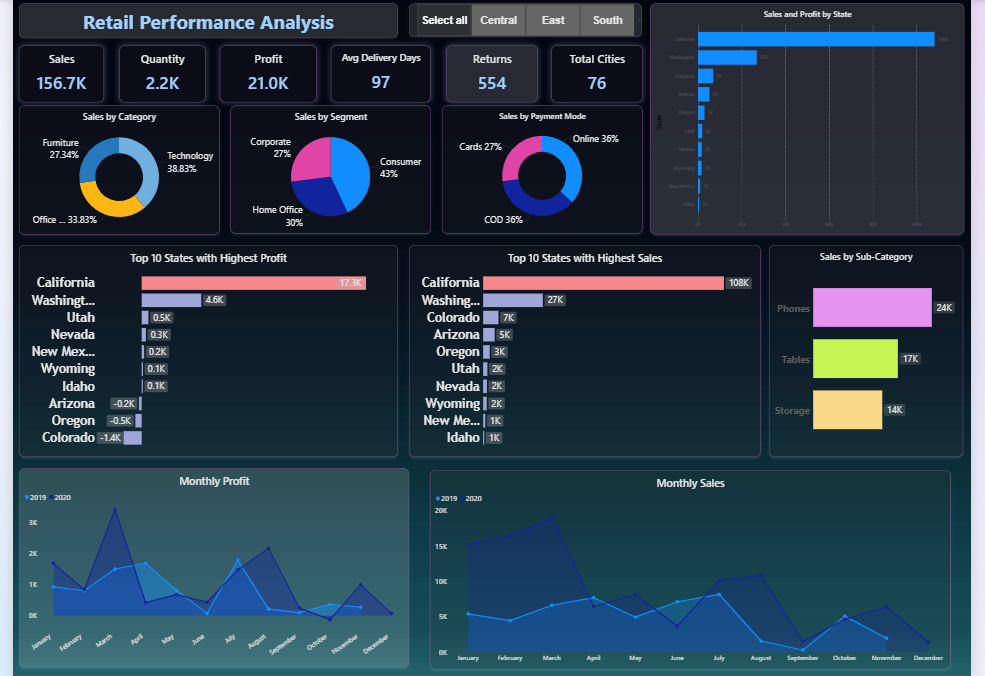

Layout of this report page (visuals, bound fields, positions):
{"tool":"powerbi","page":{"name":"Dashboard","canvas":[2400,1700],"ordinal":0},"visuals":[{"type":"donutChart","title":"Sales by Category","fields":{"Category":["SuperStore_Sales_Dataset.Category"],"Y":["Sum(SuperStore_Sales_Dataset.Sales)"]},"box":[15.8,265.4,501.9,323.2],"z":0},{"type":"clusteredBarChart","title":"Sales by Sub-Category","fields":{"Category":["SuperStore_Sales_Dataset.Sub-Category"],"Y":["Sum(SuperStore_Sales_Dataset.Sales)"]},"box":[1894.4,614.8,486.1,530.8],"z":1000},{"type":"areaChart","title":"Monthly Sales","fields":{"Y":["Sum(SuperStore_Sales_Dataset.Sales)"],"Category":["SuperStore_Sales_Dataset.Order Date.Variation.Date Hierarchy.Month","SuperStore_Sales_Dataset.Order Date.Variation.Date Hierarchy.Day"],"Series":["SuperStore_Sales_Dataset.Order Date.Variation.Date Hierarchy.Year"]},"box":[1044.1,1179.3,1303.2,499.5],"z":3000},{"type":"areaChart","title":"Monthly Profit ","fields":{"Category":["SuperStore_Sales_Dataset.Order Date.Variation.Date Hierarchy.Month","SuperStore_Sales_Dataset.Order Date.Variation.Date Hierarchy.Day"],"Series":["SuperStore_Sales_Dataset.Order Date.Variation.Date Hierarchy.Year"],"Y":["Sum(SuperStore_Sales_Dataset.Profit)"]},"box":[15,1175.5,976.5,499.5],"z":4000},{"type":"barChart","title":"Sales and Profit by State","fields":{"Category":["SuperStore_Sales_Dataset.State"],"Y":["Sum(SuperStore_Sales_Dataset.Sales)"]},"box":[1594.9,10.5,785.6,578.1],"z":5000},{"type":"pieChart","title":"Sales by Segment","fields":{"Category":["SuperStore_Sales_Dataset.Segment"],"Y":["Sum(SuperStore_Sales_Dataset.Sales)"]},"box":[543.9,268,501.9,320.6],"z":6000},{"type":"donutChart","title":"Sales by Payment Mode","fields":{"Category":["SuperStore_Sales_Dataset.Payment Mode"],"Y":["Sum(SuperStore_Sales_Dataset.Sales)"]},"box":[1074.7,268,501.9,320.6],"z":7000},{"type":"slicer","fields":{"Values":["SuperStore_Sales_Dataset.Region"]},"box":[993.2,10.5,583.3,84.1],"z":8000},{"type":"textbox","box":[15.8,10.5,948.5,86.7],"z":9000},{"type":"card","title":"Sales","fields":{"Values":["Sum(SuperStore_Sales_Dataset.Sales)"]},"box":[15.8,115.6,212.8,141.9],"z":10000},{"type":"card","title":"Quantity","fields":{"Values":["Sum(SuperStore_Sales_Dataset.Quantity)"]},"box":[268,115.6,215.5,141.9],"z":11000},{"type":"card","title":"Profit","fields":{"Values":["Sum(SuperStore_Sales_Dataset.Profit)"]},"box":[517.6,115.6,241.7,141.9],"z":12000},{"type":"card","title":"Avg Delivery Days","fields":{"Values":["Avg(SuperStore_Sales_Dataset.AvgDelivery)"]},"box":[796.1,115.6,249.6,141.9],"z":13000},{"type":"card","title":"Returns","fields":{"Values":["CountNonNull(SuperStore_Sales_Dataset.Returns)"]},"box":[1085.2,115.6,228.6,141.9],"z":14000},{"type":"card","title":"Total Cities","fields":{"Values":["Count(SuperStore_Sales_Dataset.City)"]},"box":[1347.9,115.6,228.6,141.9],"z":15000},{"type":"clusteredBarChart","title":"Top 10 States with Highest Sales","fields":{"Category":["SuperStore_Sales_Dataset.State"],"Y":["Sum(SuperStore_Sales_Dataset.Sales)"]},"box":[993.2,614.8,880.2,530.8],"z":16000},{"type":"clusteredBarChart","title":"Top 10 States with Highest Profit ","fields":{"Category":["SuperStore_Sales_Dataset.State"],"Y":["Sum(SuperStore_Sales_Dataset.Profit)"]},"box":[15.8,614.8,948.5,530.8],"z":17000}]}

Visuals, with their boxes on the page's 2400x1700 design canvas (x1, y1, x2, y2). These are canvas units, not pixel positions in the 985x676 screenshot, which may show the page scaled, cropped or inside an application window:
"Sales by Category" donutChart: [16,265,518,589]
"Sales by Sub-Category" clusteredBarChart: [1894,615,2380,1146]
"Monthly Sales" areaChart: [1044,1179,2347,1679]
"Monthly Profit " areaChart: [15,1176,992,1675]
"Sales and Profit by State" barChart: [1595,10,2380,589]
"Sales by Segment" pieChart: [544,268,1046,589]
"Sales by Payment Mode" donutChart: [1075,268,1577,589]
slicer - SuperStore_Sales_Dataset.Region: [993,10,1576,95]
textbox: [16,10,964,97]
"Sales" card: [16,116,229,258]
"Quantity" card: [268,116,484,258]
"Profit" card: [518,116,759,258]
"Avg Delivery Days" card: [796,116,1046,258]
"Returns" card: [1085,116,1314,258]
"Total Cities" card: [1348,116,1576,258]
"Top 10 States with Highest Sales" clusteredBarChart: [993,615,1873,1146]
"Top 10 States with Highest Profit " clusteredBarChart: [16,615,964,1146]
